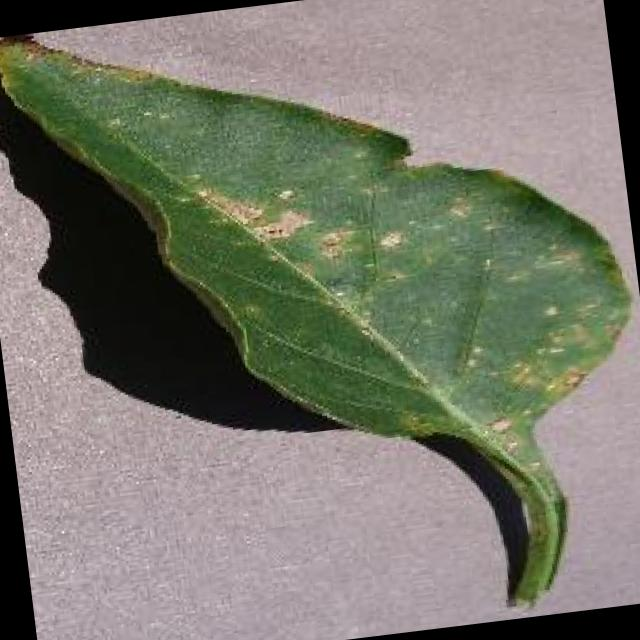Chilli_Bacterial_Spot: (0, 0, 640, 640), (184, 126, 640, 463), (190, 157, 413, 304), (190, 170, 318, 256), (190, 176, 268, 234), (246, 200, 315, 248), (311, 220, 358, 265), (254, 213, 295, 247), (441, 190, 476, 227), (369, 222, 407, 256), (482, 410, 516, 438), (534, 296, 564, 324), (270, 182, 298, 207)
